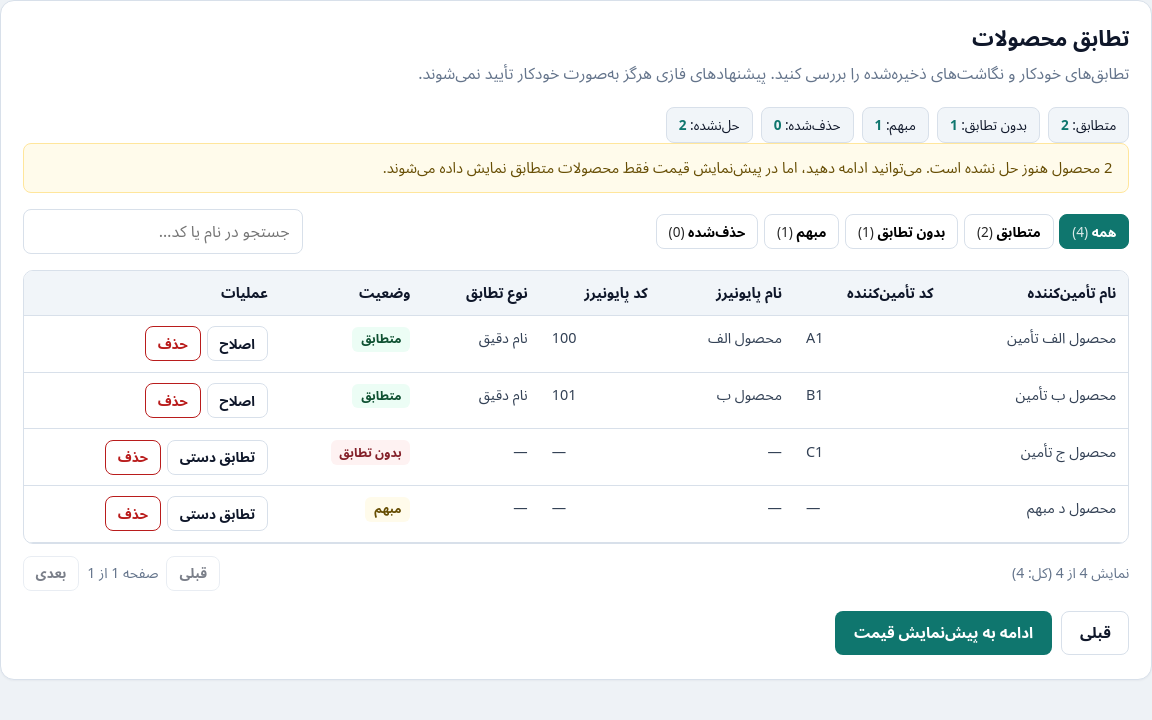
Test: MatchingStep › disables search results already held by another supplier product
The width and height of the screenshot is (1152, 720).
Expected: the text "محصول ج تأمین" is shown, [946,429,1128,486]
Click the button "تطابق دستی" in the row of "محصول ج تأمین" at (217, 457), box [167,440,268,475]
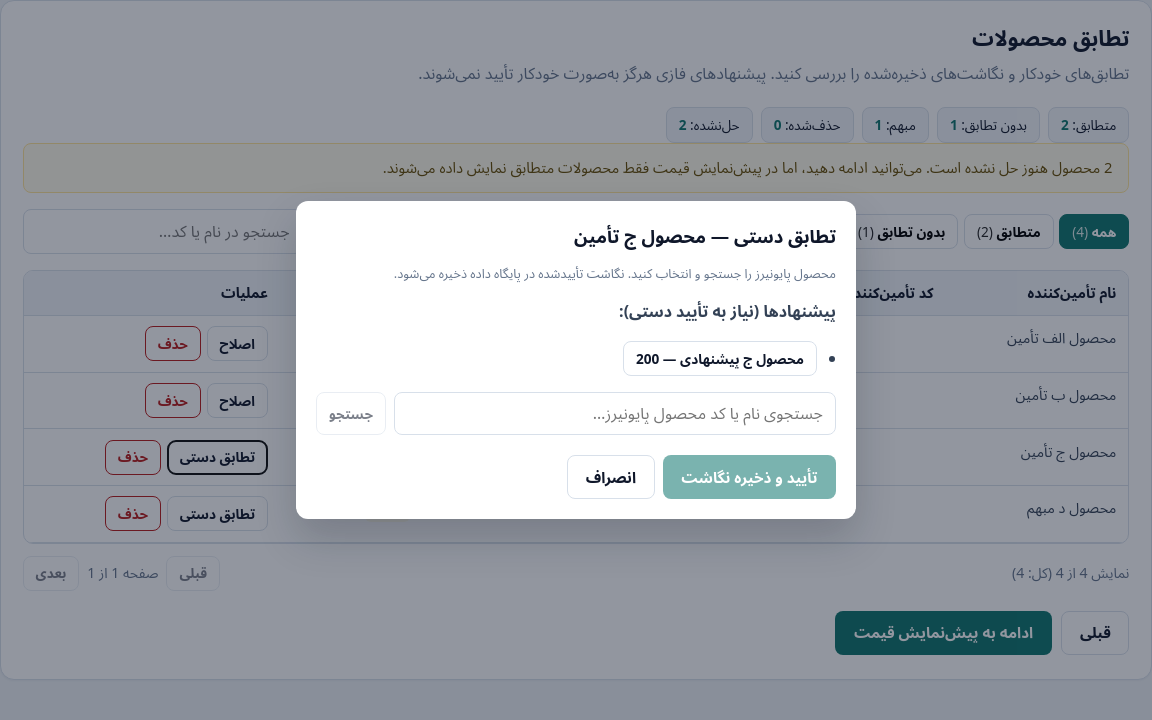
Type "اذین" into the search field named "جستجوی محصول پایونیرز" at (615, 414), box [394,392,836,436]
Then press Enter
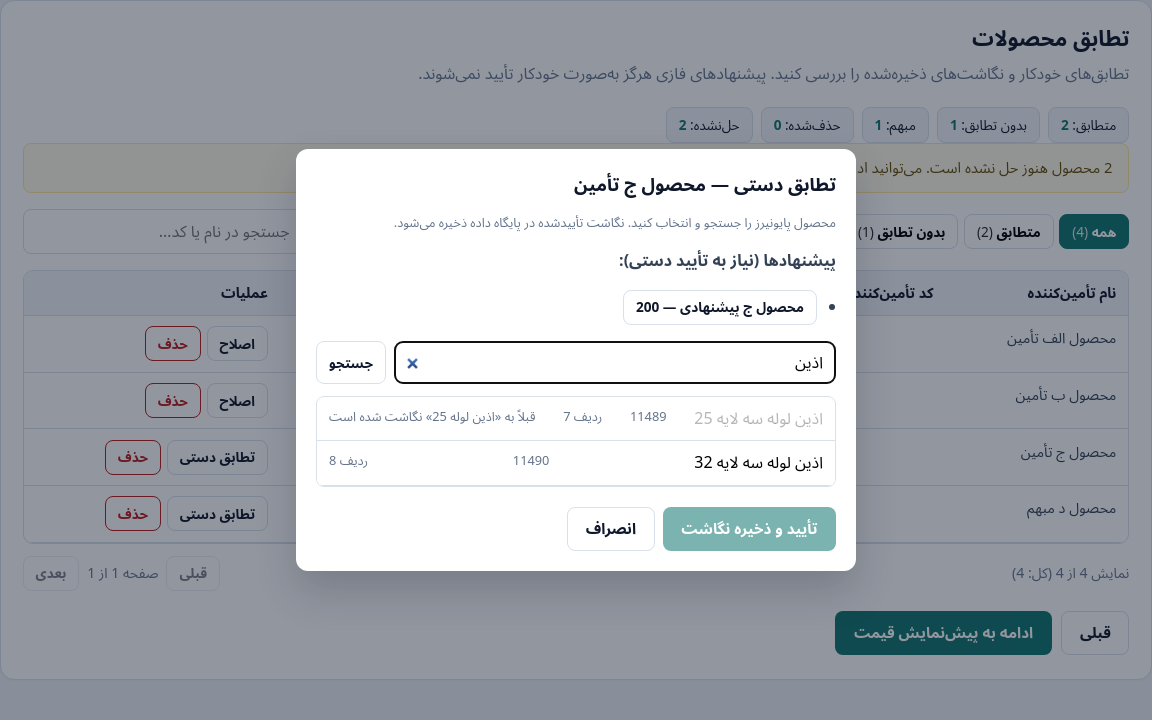
Result: the button "11489" is disabled at [317,397,835,442]
Result: the button "11489" shows "قبلاً به «اذین لوله 25» نگاشت شده است" at [317,397,835,442]
Result: the button "اذین لوله سه لایه 32 11490 ردیف 8" is enabled at [317,442,835,486]
